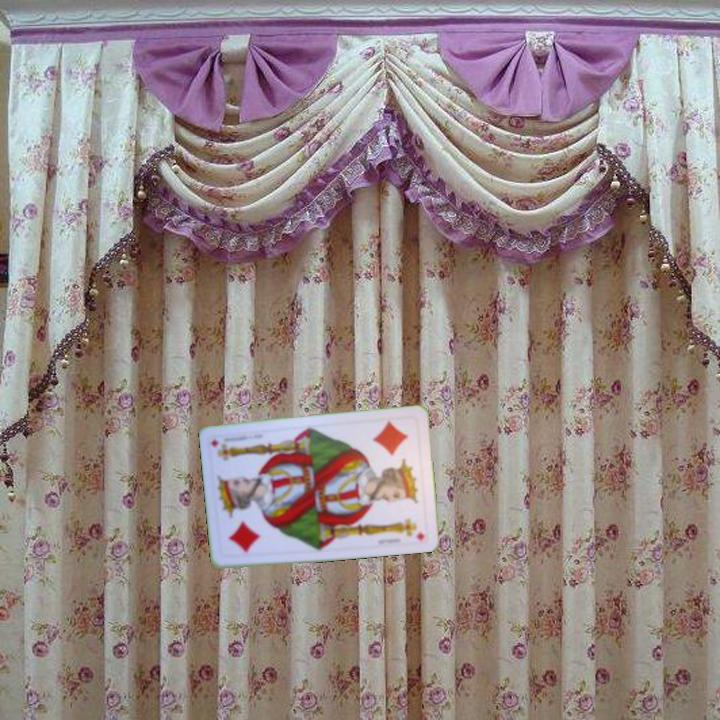d_k.png: (214, 489, 278, 561), (361, 414, 425, 486)
